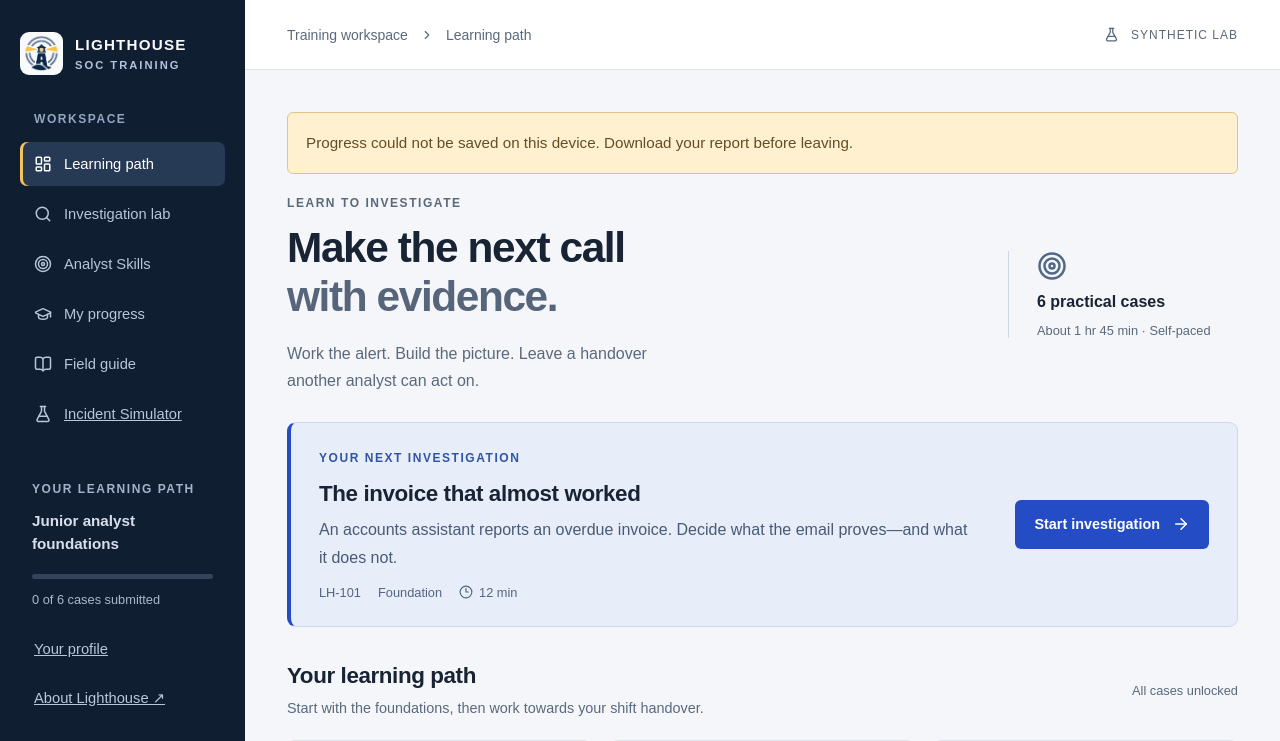
it: keeps the lab usable when device storage is denied
Expected: the text "Progress could not be saved" is shown, [306,134,853,151]
Step 1. Click the button "Start investigation" → (1112, 524), box [1016,500,1209,549]
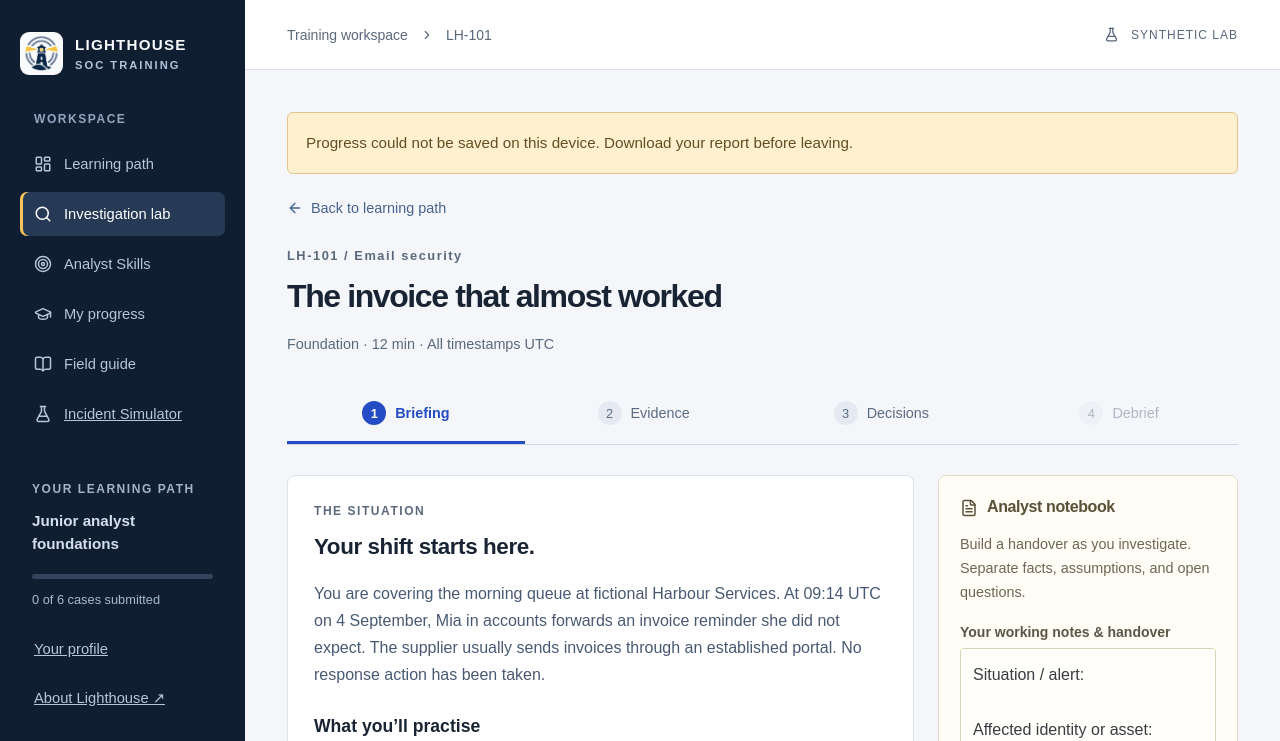
Expected: the heading "Your shift starts here." is shown, [314,534,535,559]
